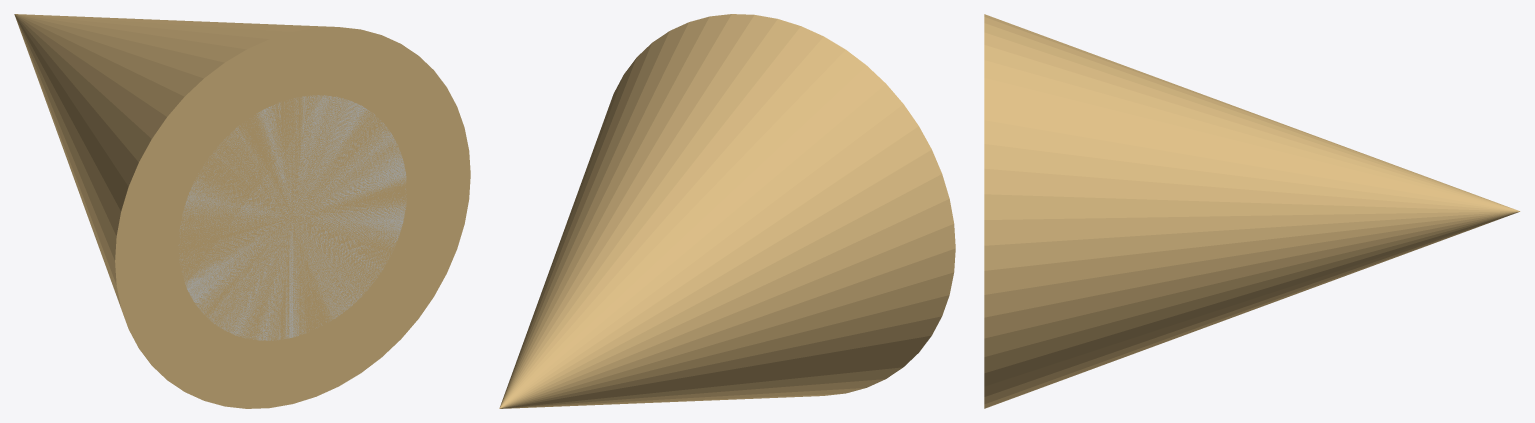
The model's file is beam-cone.glb.
The picture shows the model from 3 angles, left to right: view 1: azimuth 30°, elevation 25°; view 2: azimuth 150°, elevation 25°; view 3: azimuth 270°, elevation 25°; orthographic projection. The views are drawn at different scales.
Parts seen in each view (by area): view 1: beam_outer, beam_inner; view 2: beam_outer; view 3: beam_outer.
Boxes of the visible parts, x1,y1,x2,y2 form: beam_outer: [14, 14, 470, 408]; beam_inner: [178, 95, 406, 340]; beam_outer: [499, 14, 955, 408]; beam_outer: [984, 14, 1520, 408].
Bounding box in the file's own units: 2.8 × 2.8 × 3.8.
